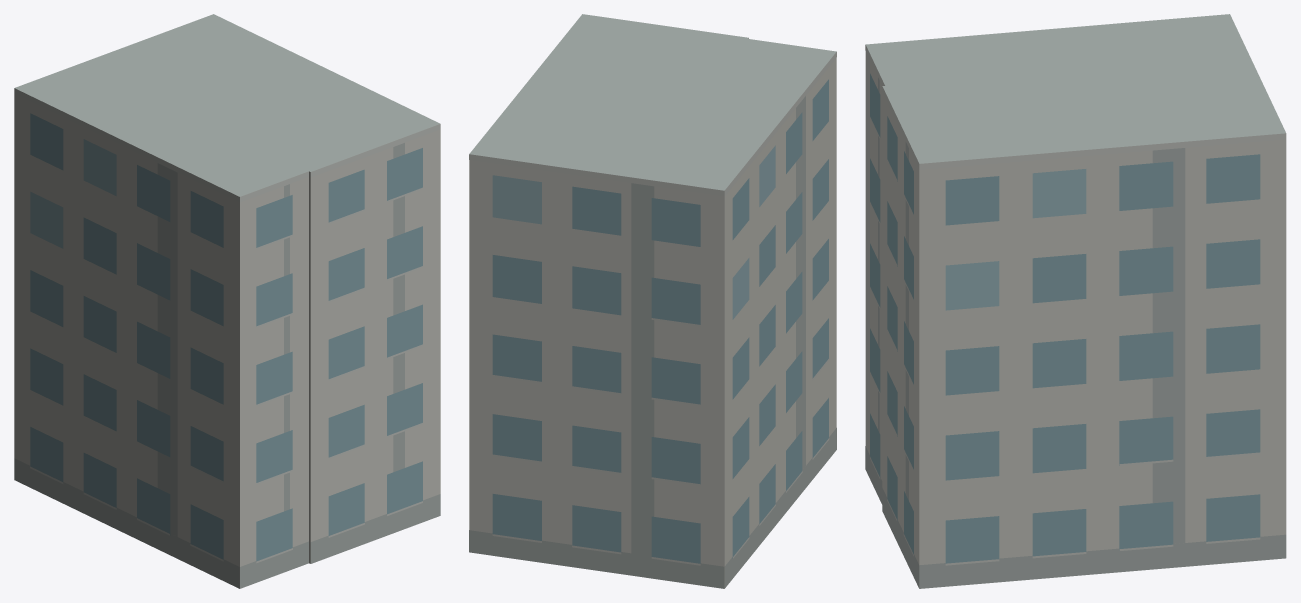
The model's file is survey-upis-32878168.glb.
3 views of the same model, side by side, from view 1: azimuth 30°, elevation 25°; view 2: azimuth 150°, elevation 25°; view 3: azimuth 270°, elevation 25° (orthographic). The views are drawn at different scales.
Visible parts, largest first — view 1: survey-upis-32878168.tmp; view 2: survey-upis-32878168.tmp; view 3: survey-upis-32878168.tmp.
Part boxes in pixels (left/top/right/bottom): survey-upis-32878168.tmp: left=14, top=14, right=440, bottom=588; survey-upis-32878168.tmp: left=469, top=14, right=836, bottom=588; survey-upis-32878168.tmp: left=865, top=14, right=1286, bottom=588.
Bounding box in the file's own units: 12.79 × 16.9 × 15.17.
